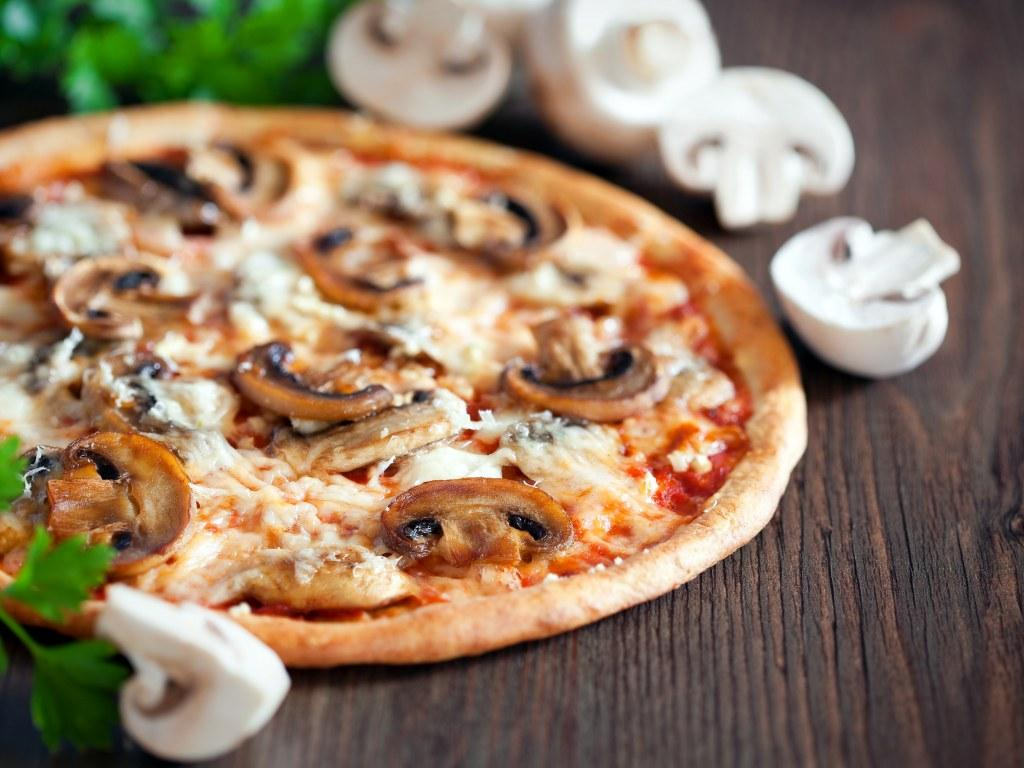champignon: (45, 427, 201, 575), (376, 472, 576, 582), (506, 313, 672, 418), (231, 340, 396, 420)
